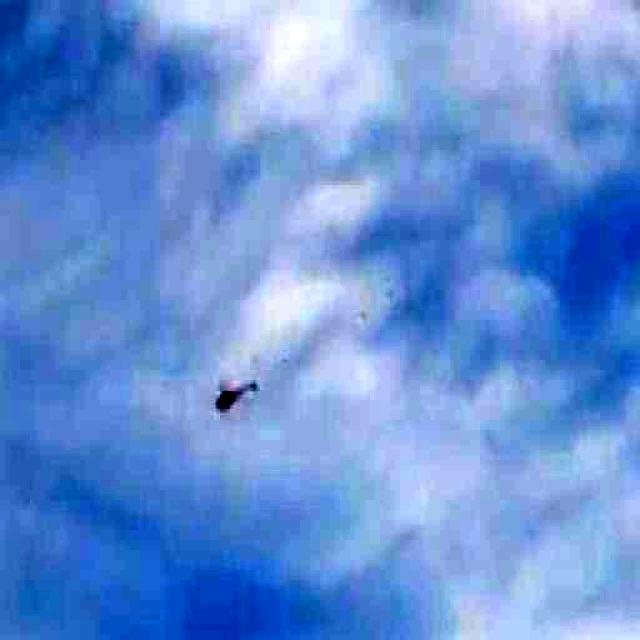drone: (199, 365, 262, 424)
